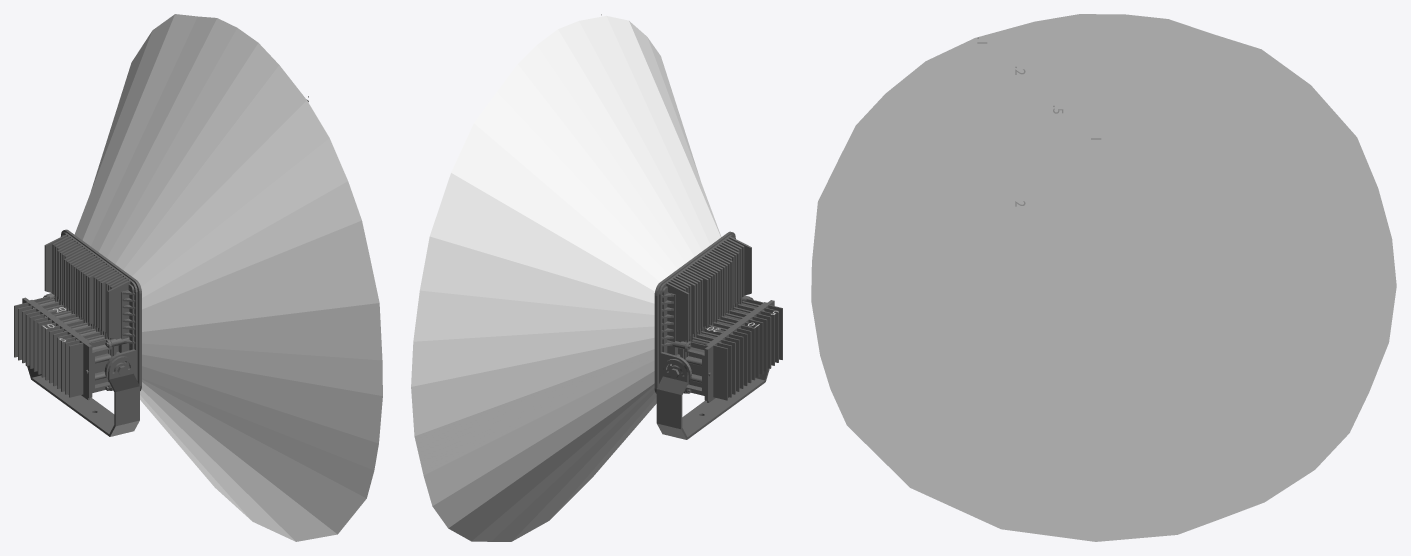
Rendered from floodLightRaw_Type_2.obj.
3 views of the same model, side by side, from view 1: azimuth 30°, elevation 25°; view 2: azimuth 150°, elevation 25°; view 3: azimuth 270°, elevation 25° (orthographic). The views are drawn at different scales.
Parts seen in each view (by area): view 1: Cylinder, FMV3LCY_UNV1D33; view 2: Cylinder, FMV3LCY_UNV1D33; view 3: Cylinder.
Boxes of the visible parts, x1,y1,x2,y2 form: Cylinder: (74, 14, 382, 541); FMV3LCY_UNV1D33: (14, 229, 141, 436); Cylinder: (411, 15, 721, 541); FMV3LCY_UNV1D33: (654, 231, 782, 439); Cylinder: (811, 14, 1396, 541).
Size of the model in its own units: 23.88 by 52.33 by 52.67.
Materials: 3 (2 with a texture image).
